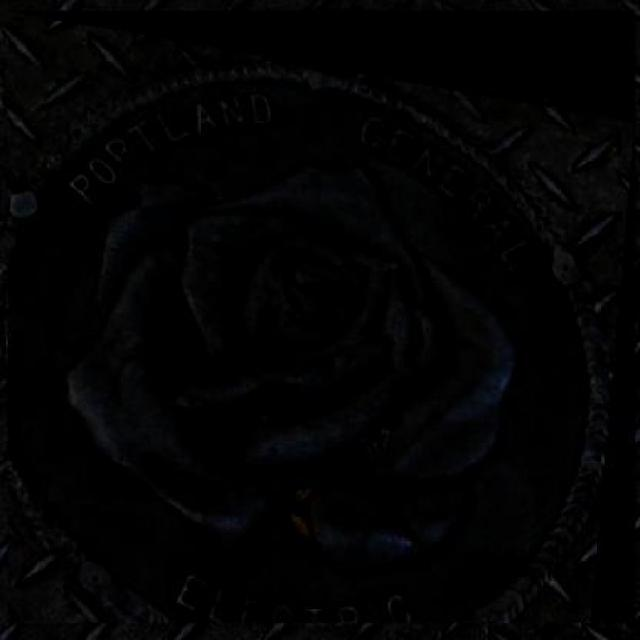Manhole: (8, 11, 636, 624)
